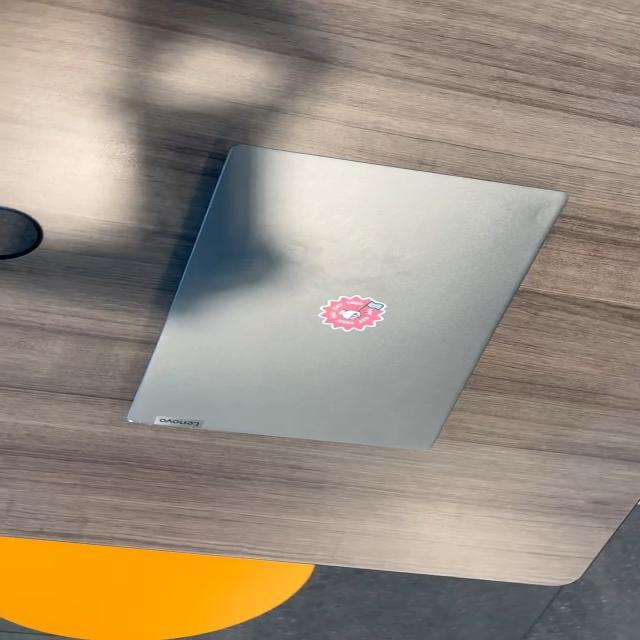laptop: (125, 142, 568, 451)
